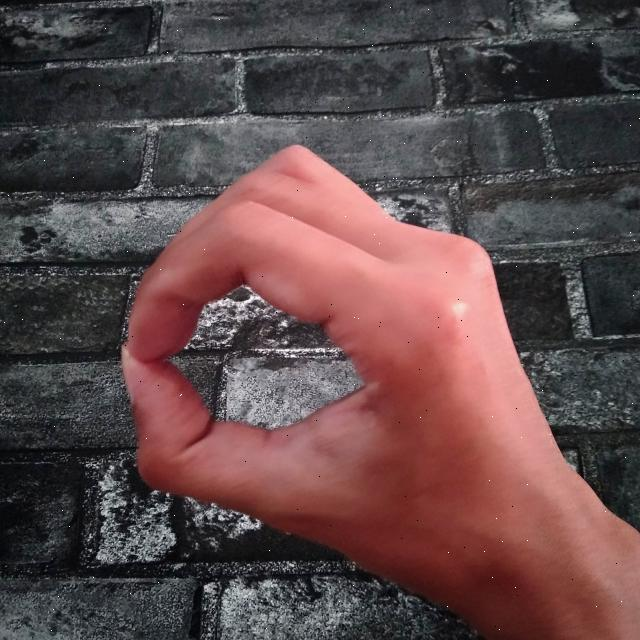O: (113, 138, 640, 640)
